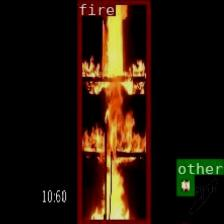fire: (77, 0, 149, 223)
